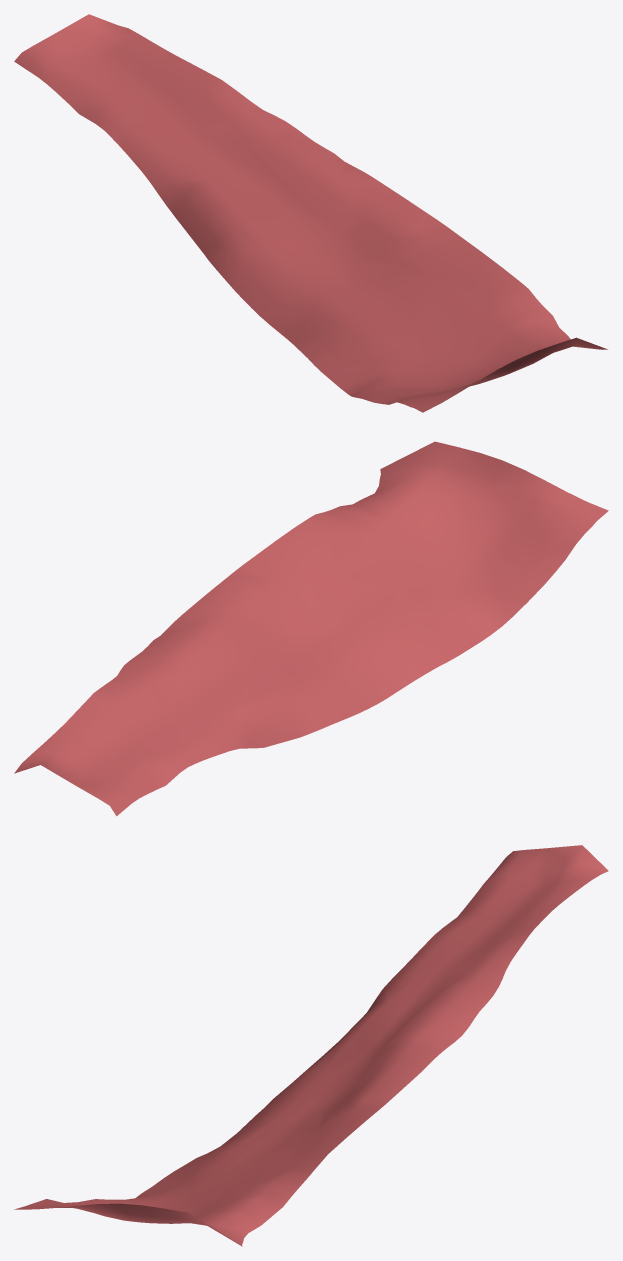
3 renders of one model, top to bottom at view 1: azimuth 30°, elevation 25°; view 2: azimuth 150°, elevation 25°; view 3: azimuth 330°, elevation 25°, orthographic. The views are drawn at different scales.
Visible parts, largest first — view 1: 左侧小腿横肌间隔; view 2: 左侧小腿横肌间隔; view 3: 左侧小腿横肌间隔.
Boxes of the visible parts, box(x1,y1,x2,y2) form: 左侧小腿横肌间隔: box(14, 14, 607, 412); 左侧小腿横肌间隔: box(14, 441, 608, 816); 左侧小腿横肌间隔: box(14, 845, 608, 1246).
Size of the model in its own units: 0.1143 by 0.0582 by 0.4302.
